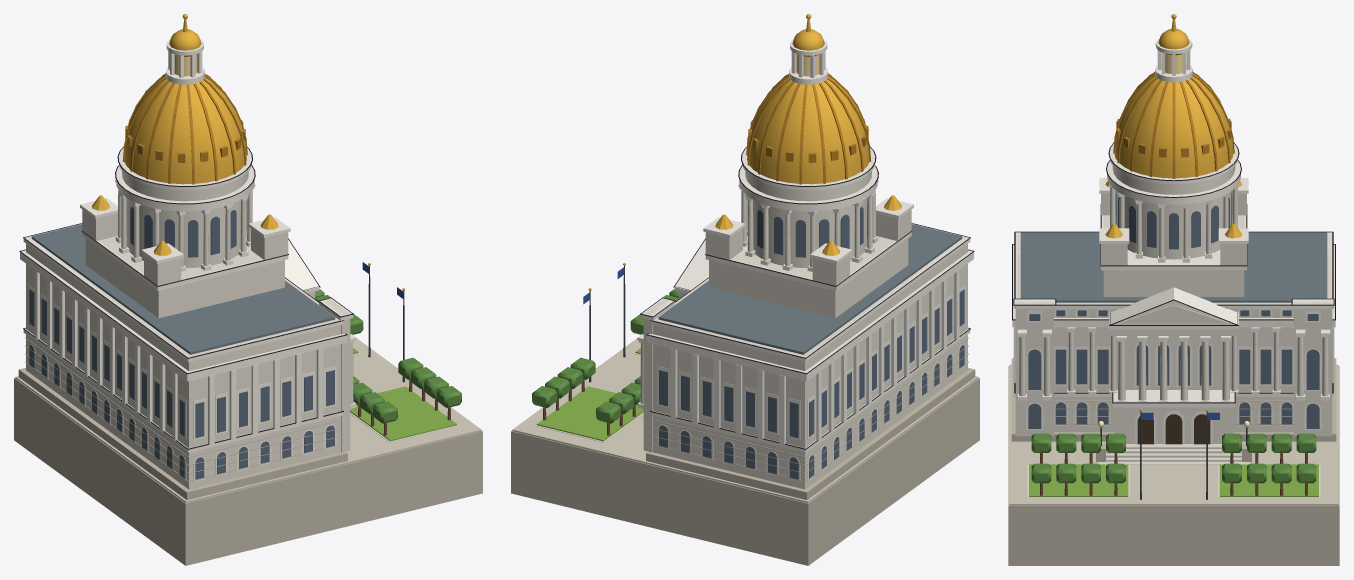
The model's file is city_hall.glb.
3 views of the same model, side by side, from view 1: azimuth 30°, elevation 25°; view 2: azimuth 150°, elevation 25°; view 3: azimuth 270°, elevation 25° (orthographic). The views are drawn at different scales.
Visible parts, largest first — view 1: hall, plaza, dome; view 2: hall, plaza, dome; view 3: hall, plaza, dome.
Boxes of the visible parts, <box> form: hall: <box>18,223,356,499</box>; plaza: <box>14,262,482,565</box>; dome: <box>80,14,290,318</box>; hall: <box>637,223,975,499</box>; plaza: <box>511,263,979,565</box>; dome: <box>703,14,913,318</box>; hall: <box>1011,231,1336,464</box>; plaza: <box>1008,364,1339,565</box>; dome: <box>1099,14,1248,296</box>.
Bounding box in the file's own units: 40 × 60.22 × 40.
